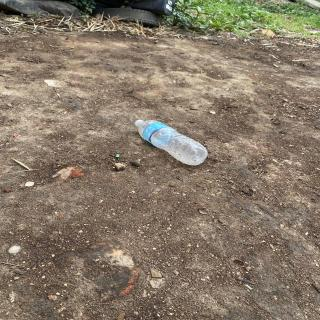Plastic-bottle: (132, 115, 210, 169)
